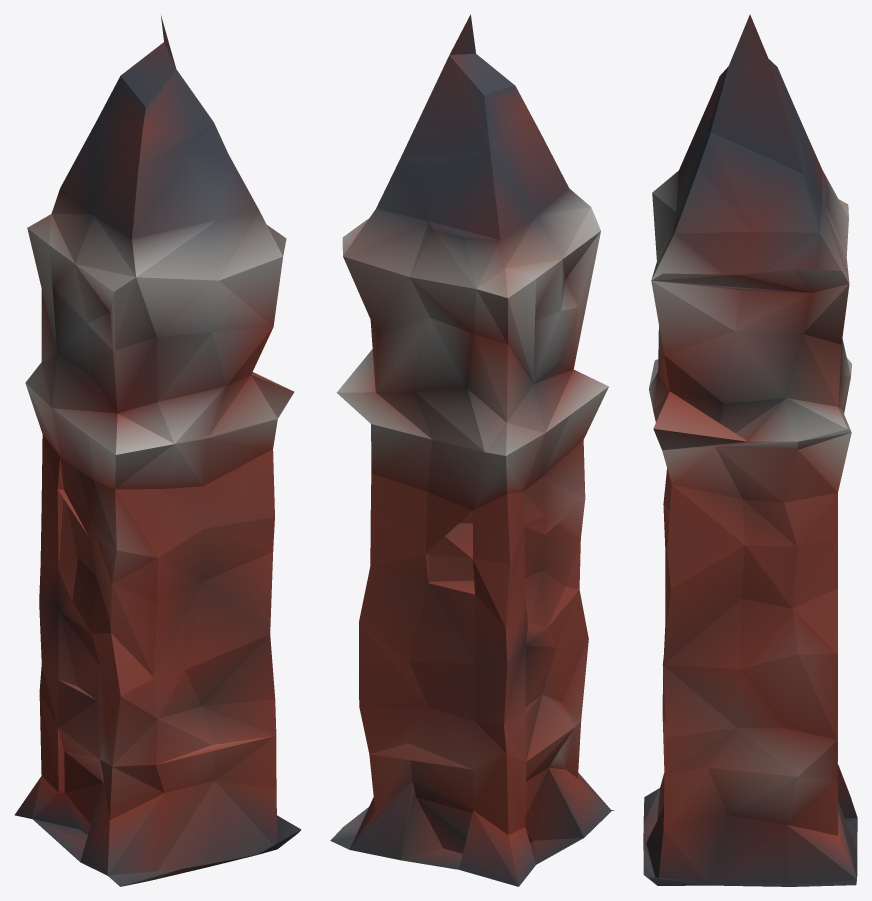
Rendered from clock-tower.glb.
The picture shows the model from 3 angles, left to right: view 1: azimuth 30°, elevation 25°; view 2: azimuth 150°, elevation 25°; view 3: azimuth 270°, elevation 25°; orthographic projection. The views are drawn at different scales.
Parts seen in each view (by area): view 1: clock-tower-far; view 2: clock-tower-far; view 3: clock-tower-far.
Part boxes in pixels (bbox=[...]): clock-tower-far: bbox=[14, 14, 301, 886]; clock-tower-far: bbox=[330, 14, 614, 886]; clock-tower-far: bbox=[643, 14, 857, 886].
Bounding box in the file's own units: 0.2276 × 0.9471 × 0.2198.
